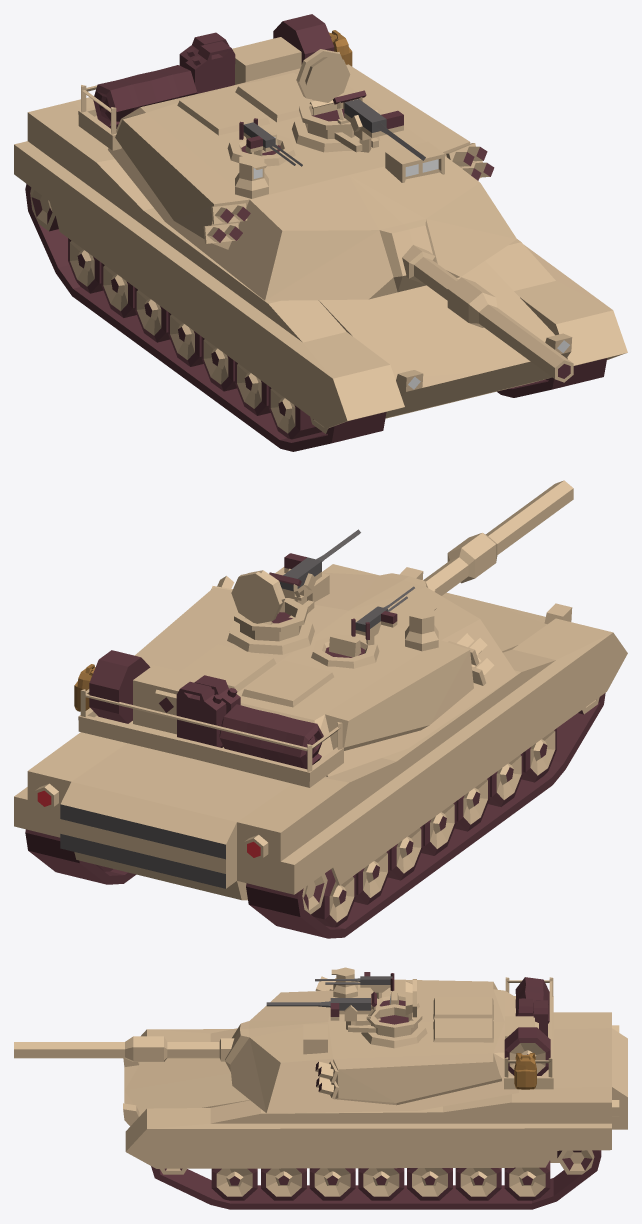
File: SM_Tank_A_Military.fbx
3 views of the same model, one above another, from view 1: azimuth 30°, elevation 25°; view 2: azimuth 150°, elevation 25°; view 3: azimuth 270°, elevation 25° (orthographic). The views are drawn at different scales.
Parts seen in each view (by area): view 1: SM_Tank_A_Military_Head, SM_Tank_A_Military_Base, SM_Tank_A_Military_Wheel2, SM_Tank_A_Military_Wheel6, SM_Tank_A_Military_Wheel8, SM_Tank_A_Military_Wheel7, SM_Tank_A_Military_Wheel5, SM_Tank_A_Military_Wheel4, SM_Tank_A_Military_Wheel3, SM_Tank_A_Military_Wheel9; view 2: SM_Tank_A_Military_Base, SM_Tank_A_Military_Head, SM_Tank_A_Military_Wheel8, SM_Tank_A_Military_Wheel6, SM_Tank_A_Military_Wheel7, SM_Tank_A_Military_Wheel5, SM_Tank_A_Military_Wheel4, SM_Tank_A_Military_Wheel3, SM_Tank_A_Military_Wheel2, SM_Tank_A_Military_Wheel9; view 3: SM_Tank_A_Military_Base, SM_Tank_A_Military_Head, SM_Tank_A_Military_Wheel8, SM_Tank_A_Military_Wheel4, SM_Tank_A_Military_Wheel5, SM_Tank_A_Military_Wheel7, SM_Tank_A_Military_Wheel2, SM_Tank_A_Military_Wheel6, SM_Tank_A_Military_Wheel3, SM_Tank_A_Military_Wheel9.
Boxes of the visible parts, box(x1,y1,x2,y2) form: SM_Tank_A_Military_Head: box(78, 14, 573, 382); SM_Tank_A_Military_Base: box(14, 97, 627, 451); SM_Tank_A_Military_Wheel2: box(268, 386, 321, 439); SM_Tank_A_Military_Wheel6: box(134, 287, 170, 342); SM_Tank_A_Military_Wheel8: box(68, 238, 103, 293); SM_Tank_A_Military_Wheel7: box(101, 263, 136, 317); SM_Tank_A_Military_Wheel5: box(168, 312, 203, 366); SM_Tank_A_Military_Wheel4: box(201, 337, 236, 391); SM_Tank_A_Military_Wheel3: box(235, 361, 270, 415); SM_Tank_A_Military_Wheel9: box(30, 187, 58, 231); SM_Tank_A_Military_Base: box(14, 564, 627, 938); SM_Tank_A_Military_Head: box(74, 480, 573, 787); SM_Tank_A_Military_Wheel8: box(95, 864, 356, 927); SM_Tank_A_Military_Wheel6: box(388, 825, 423, 880); SM_Tank_A_Military_Wheel7: box(354, 850, 389, 904); SM_Tank_A_Military_Wheel5: box(421, 801, 456, 855); SM_Tank_A_Military_Wheel4: box(454, 777, 489, 831); SM_Tank_A_Military_Wheel3: box(488, 753, 523, 806); SM_Tank_A_Military_Wheel2: box(521, 728, 556, 782); SM_Tank_A_Military_Wheel9: box(302, 873, 327, 914); SM_Tank_A_Military_Base: box(123, 1012, 627, 1209); SM_Tank_A_Military_Head: box(14, 967, 553, 1113); SM_Tank_A_Military_Wheel8: box(504, 1160, 550, 1200); SM_Tank_A_Military_Wheel4: box(309, 1168, 355, 1200); SM_Tank_A_Military_Wheel5: box(358, 1168, 404, 1200); SM_Tank_A_Military_Wheel7: box(455, 1168, 501, 1200); SM_Tank_A_Military_Wheel2: box(211, 1168, 257, 1200); SM_Tank_A_Military_Wheel6: box(407, 1168, 452, 1200); SM_Tank_A_Military_Wheel3: box(261, 1168, 306, 1200); SM_Tank_A_Military_Wheel9: box(557, 1150, 594, 1174).
Size of the model in its own units: 3.54 by 3.17 by 9.14.
